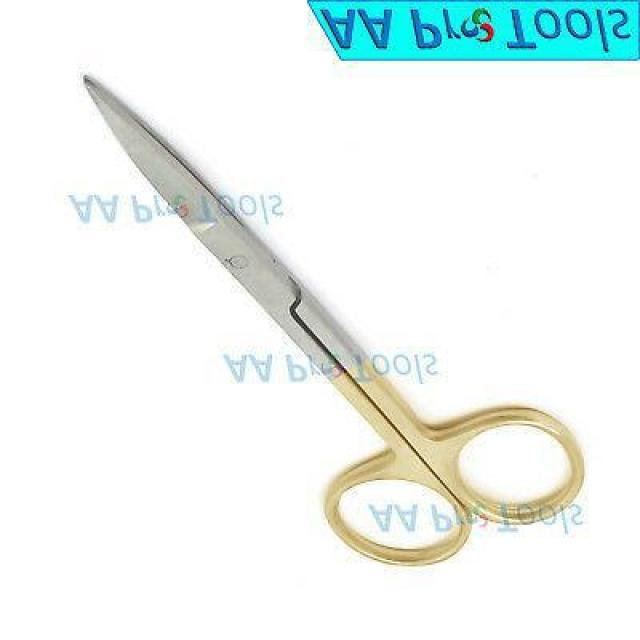Mayo_metz: (75, 69, 590, 573)
